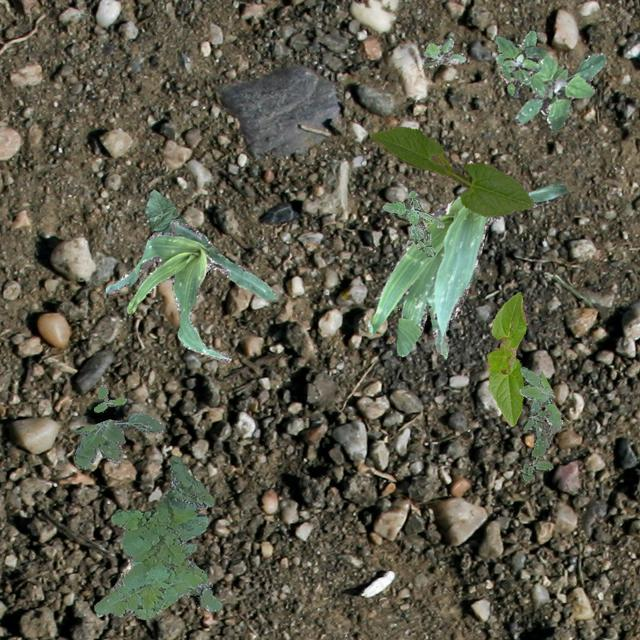crop: (367, 182, 566, 356), (104, 220, 274, 362), (368, 126, 534, 216), (486, 292, 524, 424), (144, 186, 186, 232)
weed: (92, 454, 220, 618), (514, 51, 604, 130), (74, 412, 164, 468), (382, 190, 444, 258), (494, 29, 546, 96), (518, 398, 556, 482), (518, 366, 560, 428), (492, 34, 544, 82), (422, 38, 464, 68), (92, 382, 126, 412)
